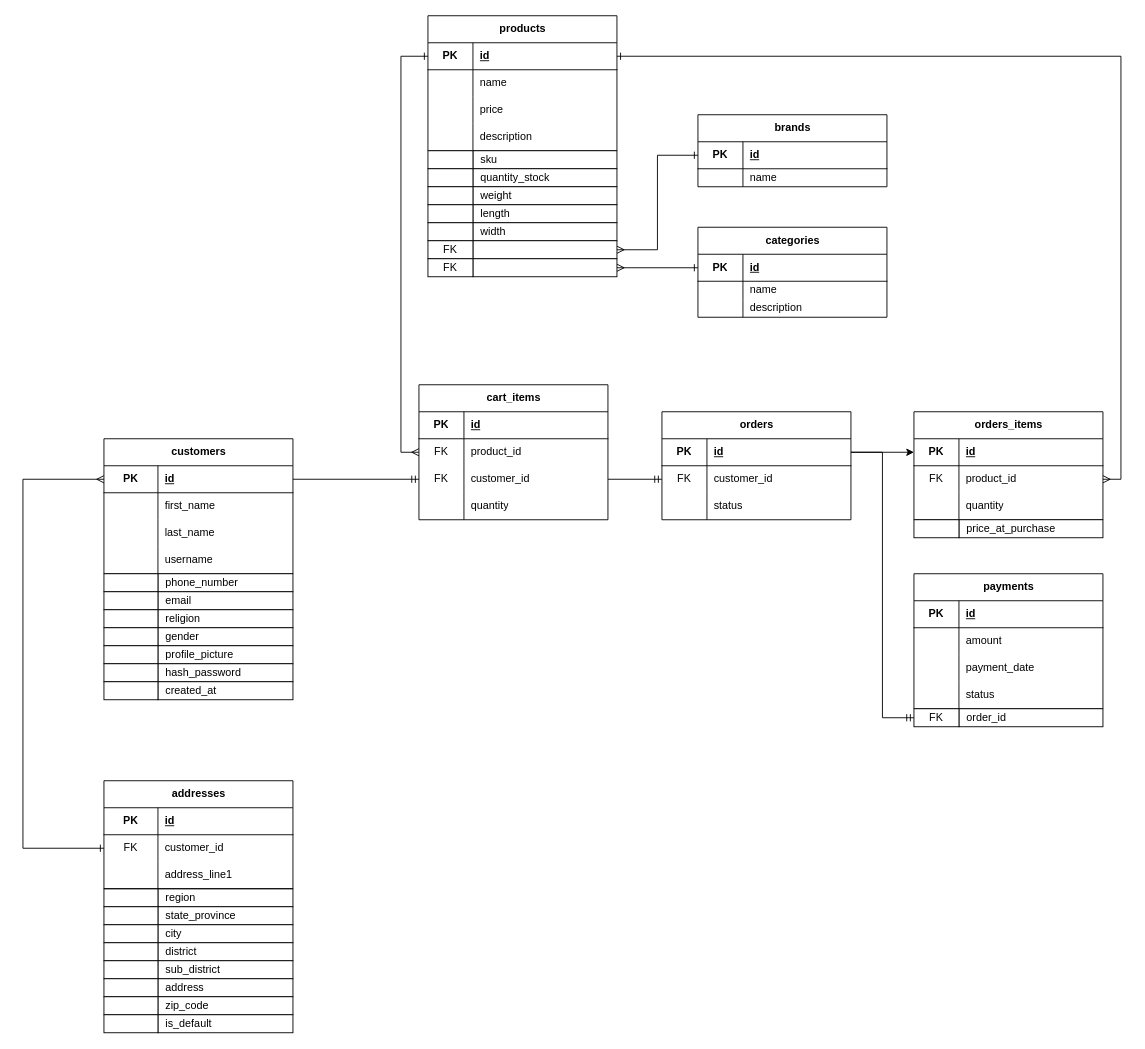
Image size: 1145x1049. Some labels were removed from this diagram. Each missing label, with the centre of its shape:
"brand_id" belongs at [544,249].
"category_id" belongs at [544,267].
